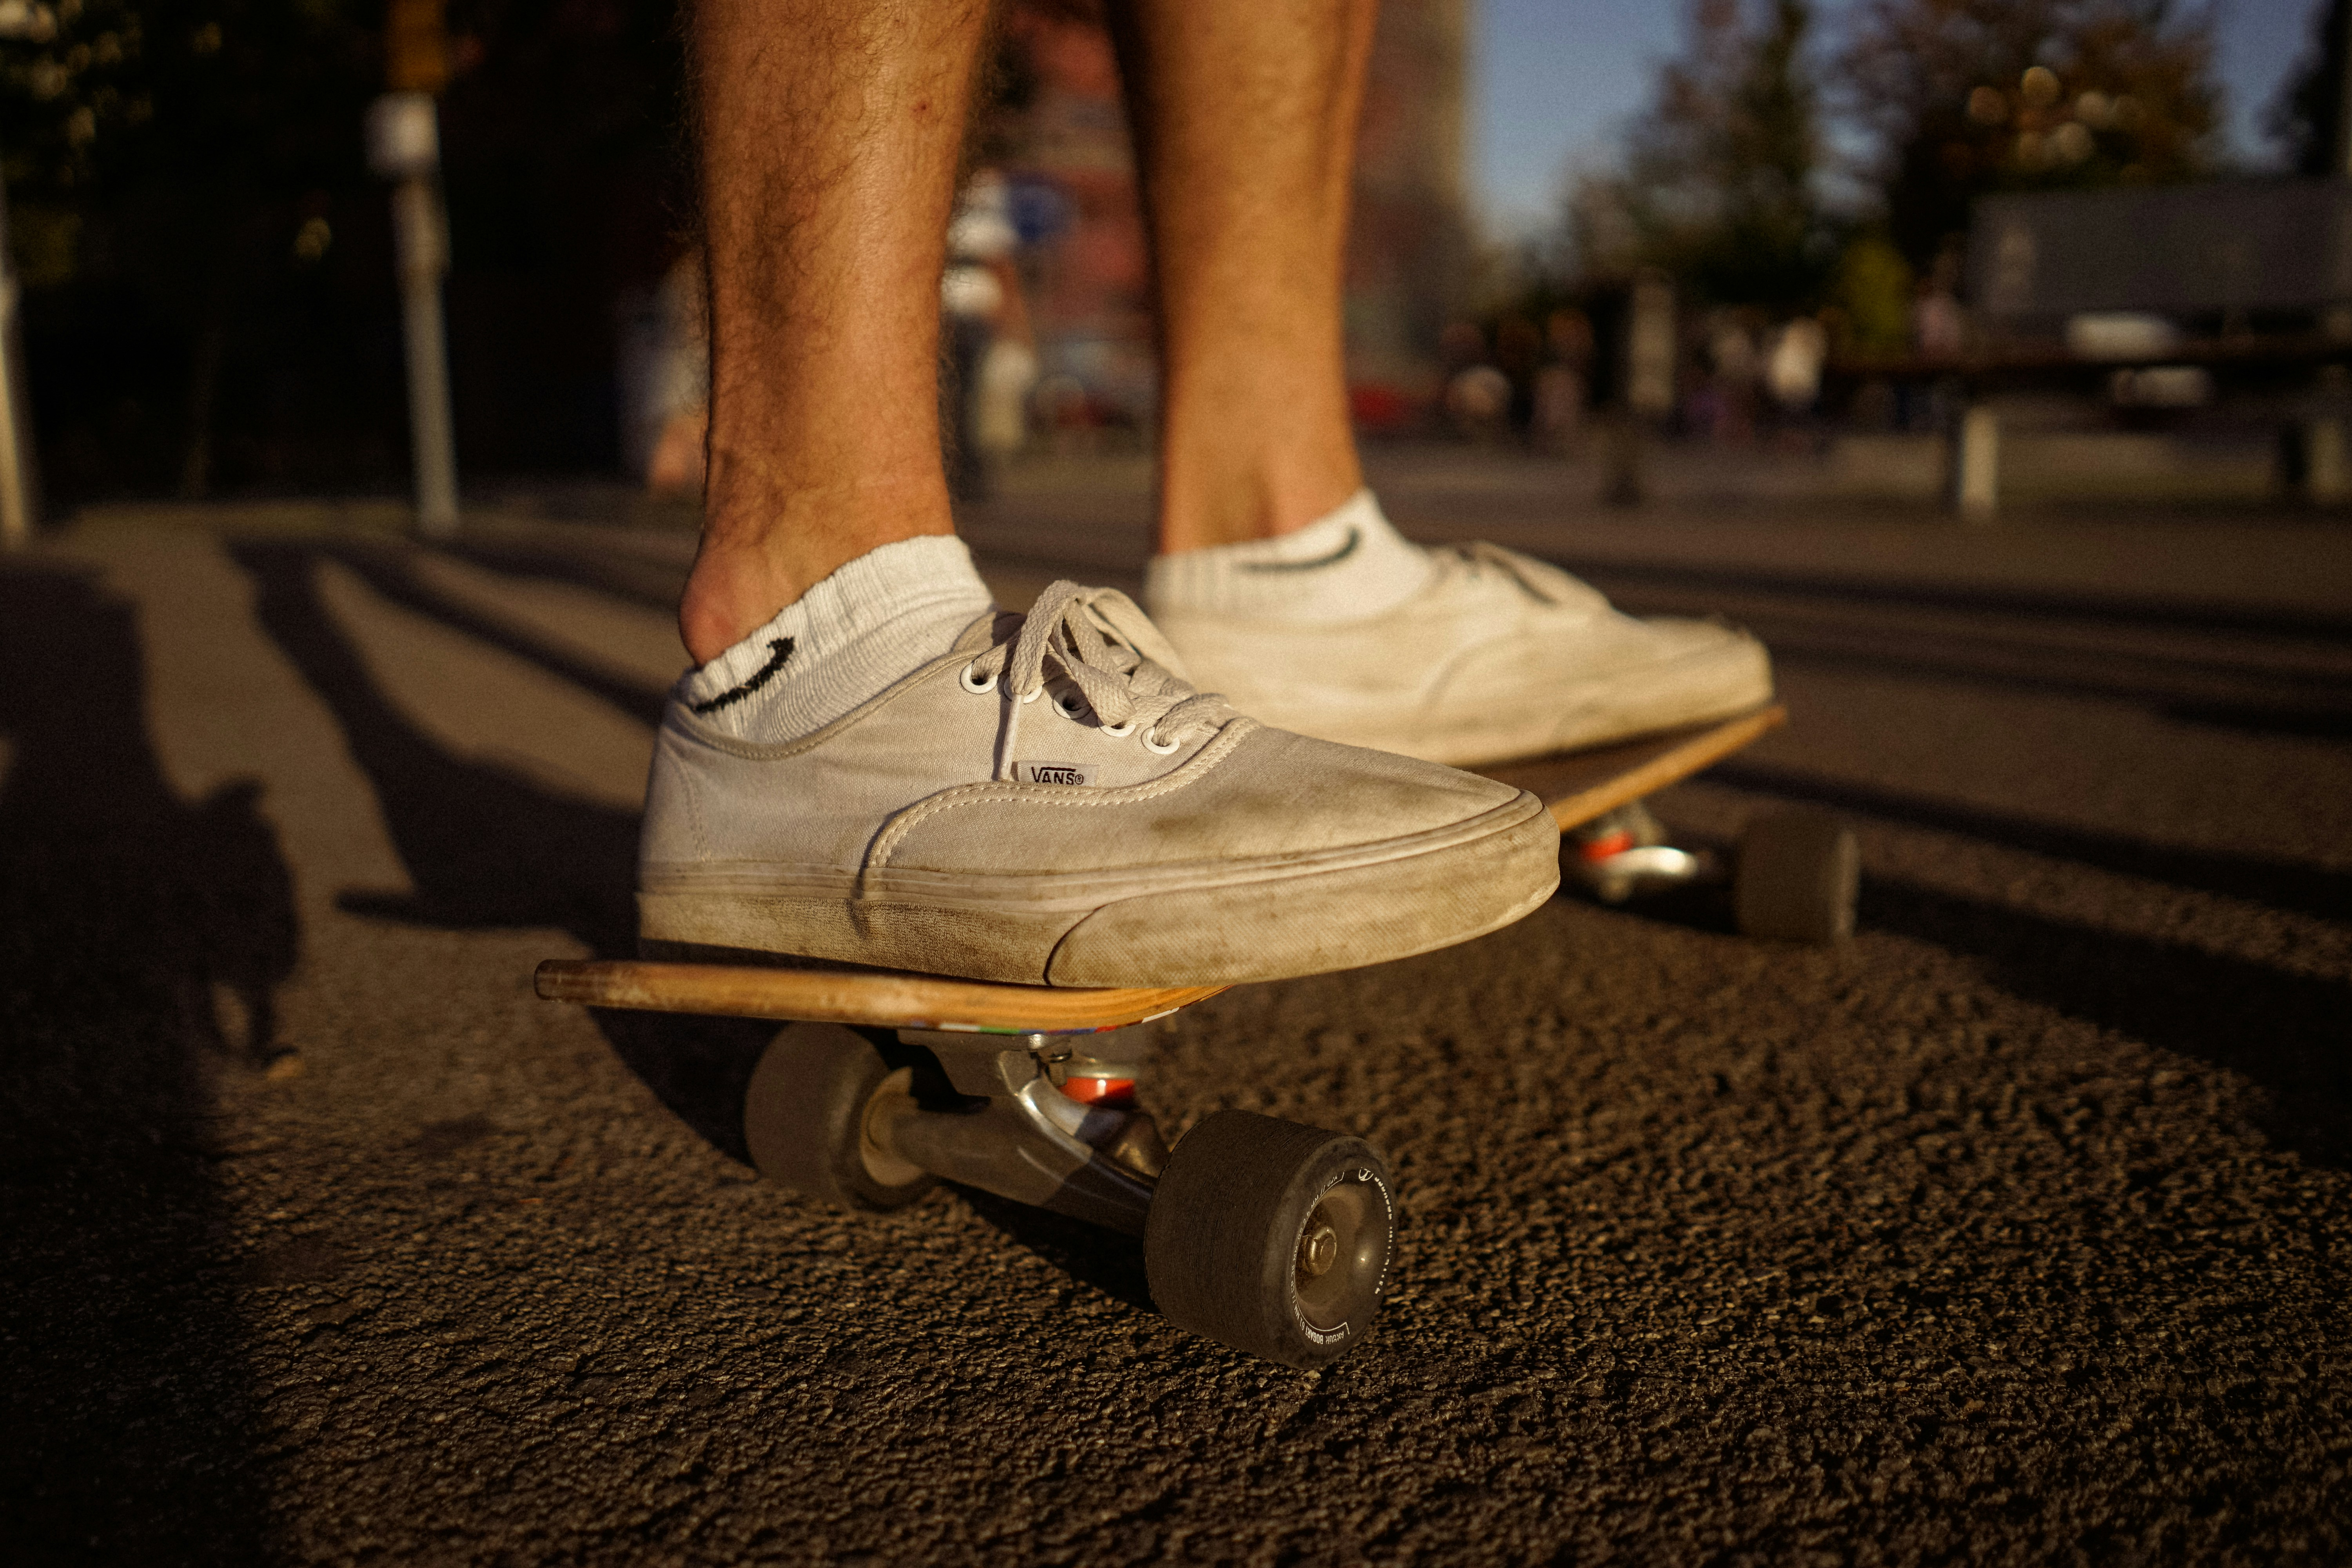Footwear: (623, 605, 1571, 982)
